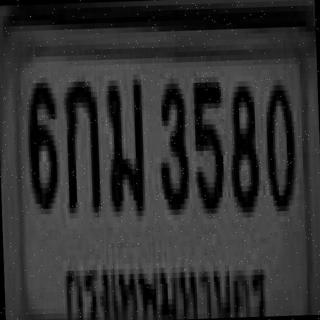A01: (63, 76, 98, 208)
A33: (104, 74, 143, 212)
N00: (263, 76, 294, 204)
N03: (156, 78, 188, 210)
N05: (191, 76, 223, 208)
N06: (24, 75, 58, 207)
N08: (226, 78, 258, 205)
P04: (56, 245, 271, 320)
